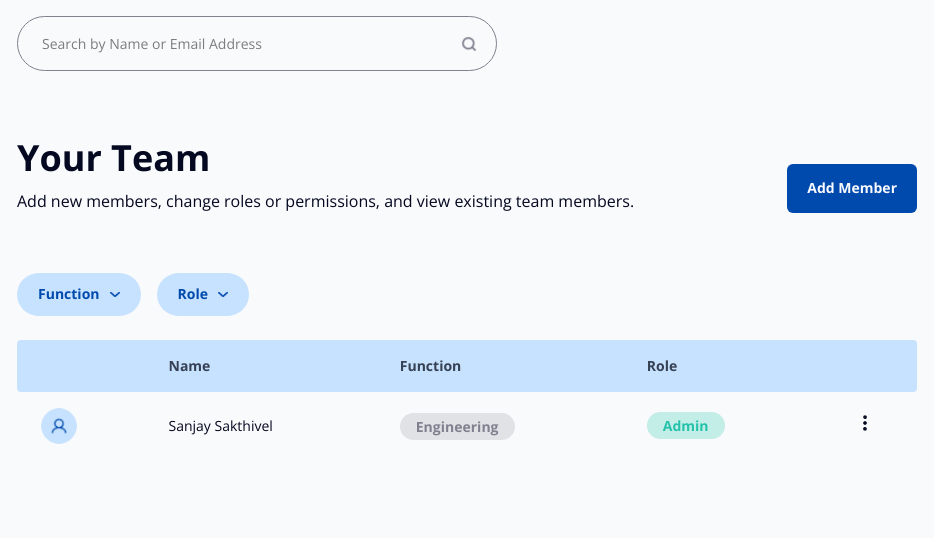
Team Management App › displays filter empty state
Expected: the text "Sanjay Sakthivel" is shown, [144,392,376,460]
Click the button "Function".
click(79, 294)  # box [17,273,140,316]
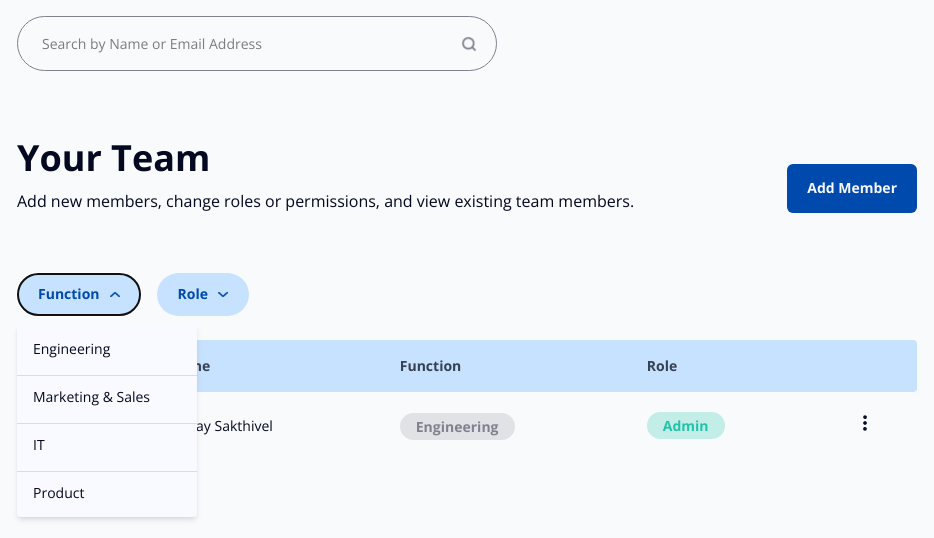
Click the button "Marketing & Sales".
click(107, 396)  # box [17,380,197,413]
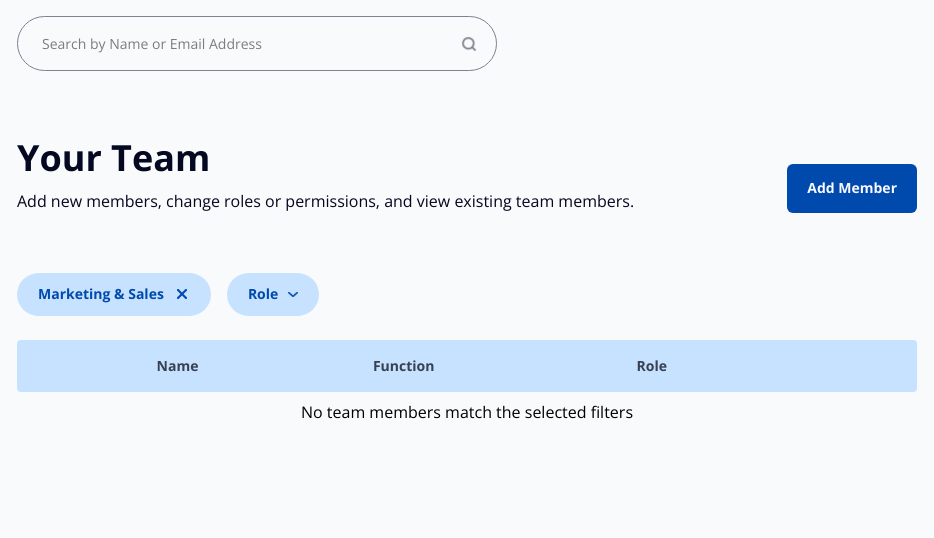
Expected: the text "No team members match the selected filters" is shown, [17,392,917,424]
